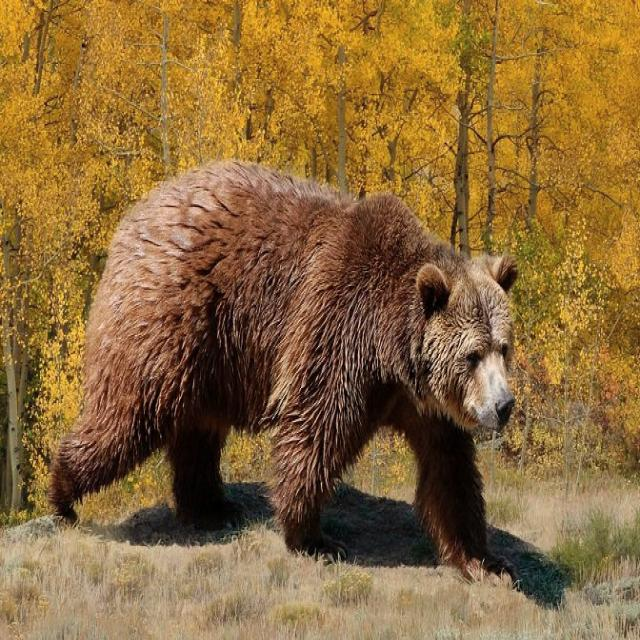bear: (50, 162, 518, 579)
